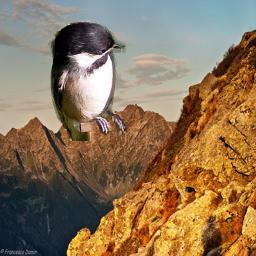Swallow: (48, 18, 130, 141)
